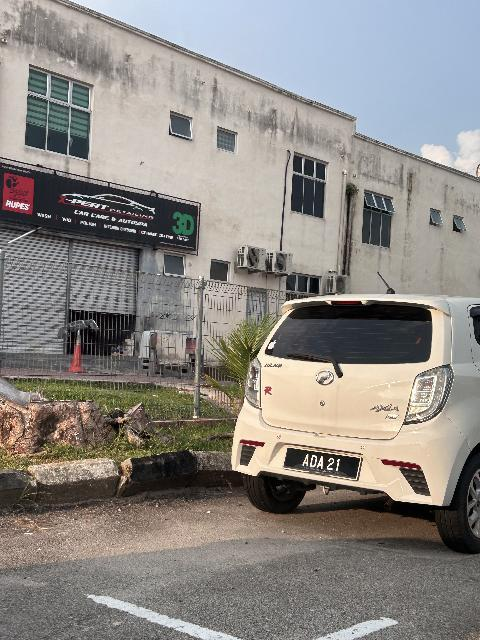ADA21: (284, 447, 362, 482)
License_Plate: (284, 447, 362, 482)
car: (232, 289, 480, 552)
